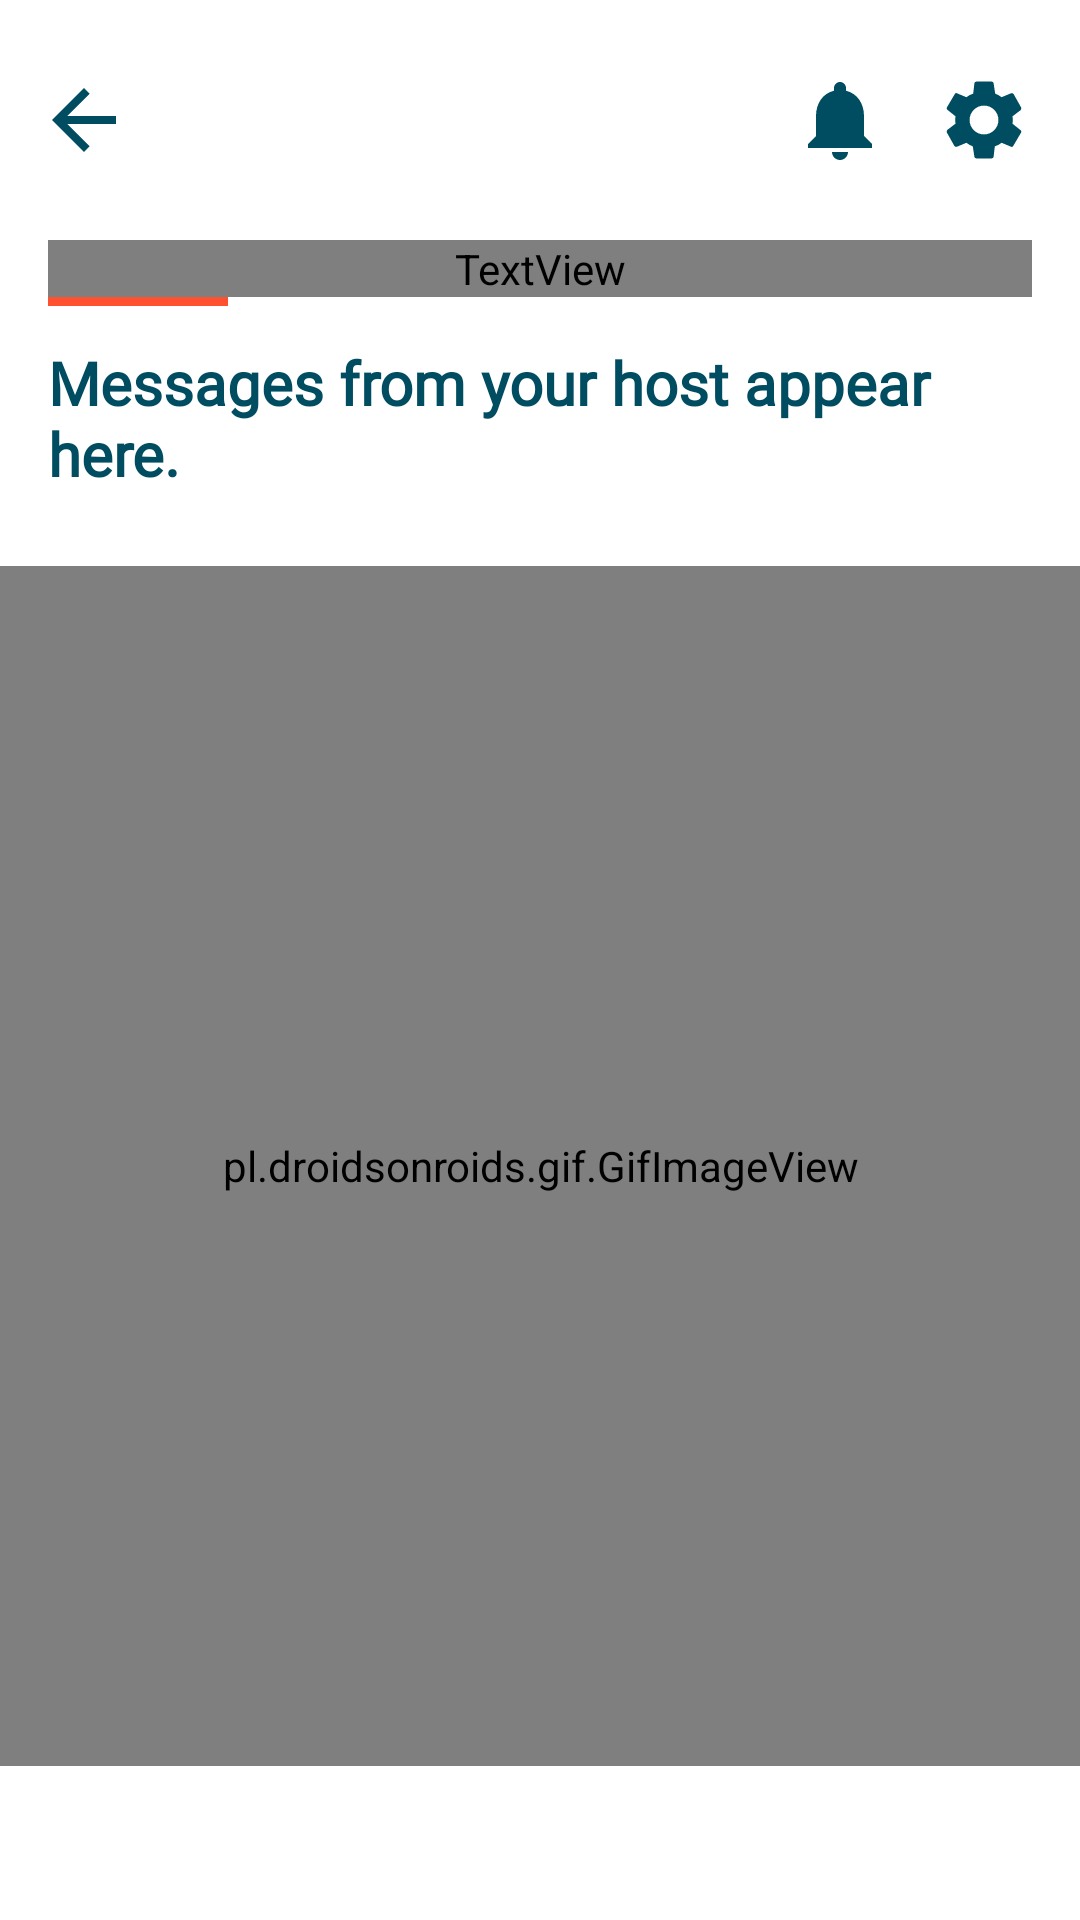

Named icons in this screenshot (1080 x 1920) and their bounding boxes, (x1, y1, x2, y2):
arrow back: (52, 88, 116, 152)
notifications: (808, 82, 872, 160)
settings: (946, 81, 1022, 159)
